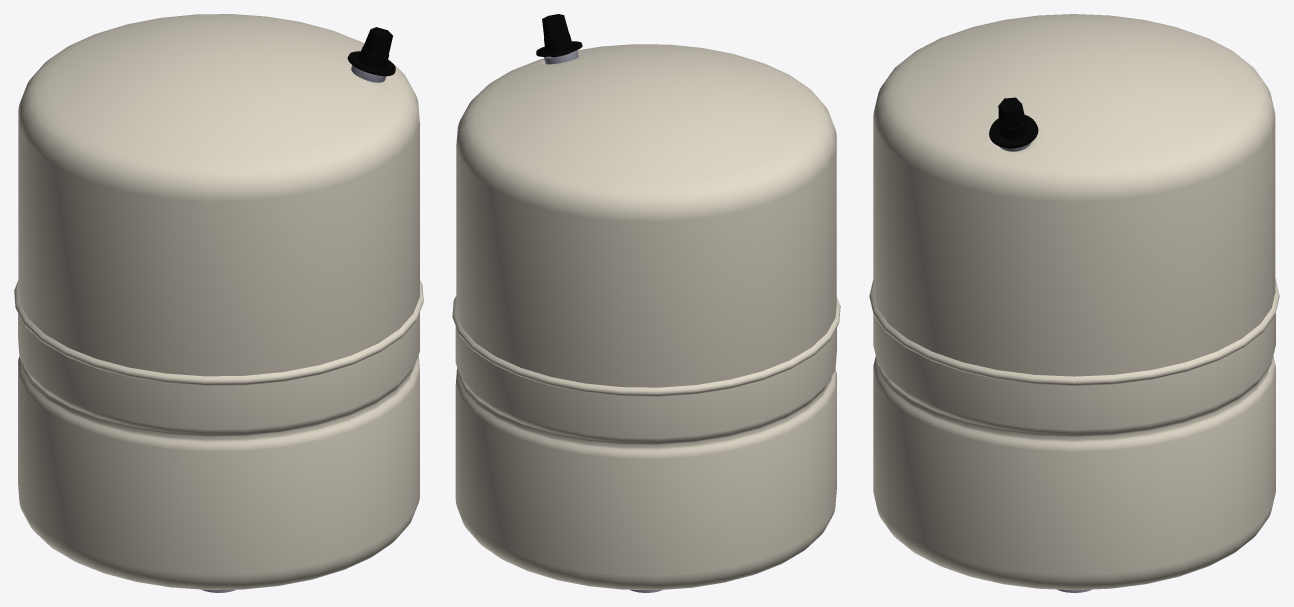
The model's file is 24lt-sabit-dikey-tank.fbx.
The picture shows the model from 3 angles, left to right: view 1: azimuth 30°, elevation 25°; view 2: azimuth 150°, elevation 25°; view 3: azimuth 270°, elevation 25°; orthographic projection. The views are drawn at different scales.
Parts seen in each view (by area): view 1: 24lt-sabit-dikey-tank.008, 24lt-sabit-dikey-tank.003, 24lt-sabit-dikey-tank.004, 24lt-sabit-dikey-tank.001; view 2: 24lt-sabit-dikey-tank.008, 24lt-sabit-dikey-tank.003, 24lt-sabit-dikey-tank.004, 24lt-sabit-dikey-tank.001; view 3: 24lt-sabit-dikey-tank.008, 24lt-sabit-dikey-tank.003, 24lt-sabit-dikey-tank.004, 24lt-sabit-dikey-tank.001.
Boxes of the visible parts, x1,y1,x2,y2 form: 24lt-sabit-dikey-tank.008: (18, 14, 419, 376); 24lt-sabit-dikey-tank.003: (18, 292, 419, 589); 24lt-sabit-dikey-tank.004: (14, 280, 423, 385); 24lt-sabit-dikey-tank.001: (347, 27, 395, 76); 24lt-sabit-dikey-tank.008: (456, 44, 836, 387); 24lt-sabit-dikey-tank.003: (455, 326, 836, 590); 24lt-sabit-dikey-tank.004: (452, 296, 840, 396); 24lt-sabit-dikey-tank.001: (536, 14, 582, 56); 24lt-sabit-dikey-tank.008: (873, 14, 1275, 376); 24lt-sabit-dikey-tank.003: (873, 294, 1275, 590); 24lt-sabit-dikey-tank.004: (869, 279, 1279, 385); 24lt-sabit-dikey-tank.001: (989, 97, 1038, 148).
Bounding box in the file's own units: 1286 × 1884 × 1286.
